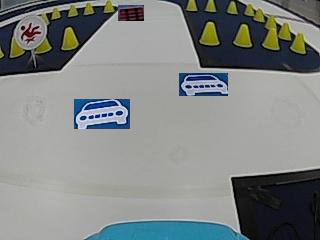cone: (199, 21, 219, 46), (233, 23, 252, 47), (61, 26, 78, 51), (262, 26, 279, 50), (290, 32, 306, 54), (9, 38, 23, 58), (279, 21, 290, 40), (226, 0, 238, 15), (204, 0, 217, 13), (254, 6, 264, 22), (83, 2, 94, 15), (68, 4, 78, 17), (244, 3, 254, 16), (51, 6, 60, 20), (186, 0, 197, 11), (104, 0, 113, 13)
tumble: (16, 17, 43, 47)
